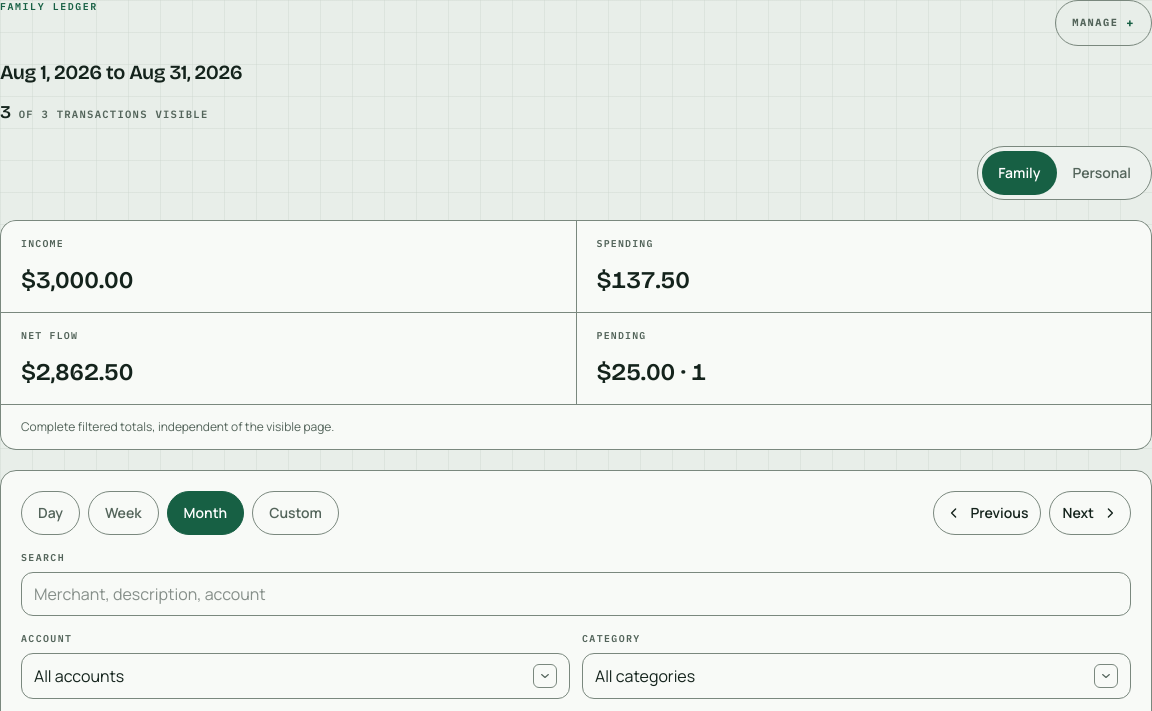
Test: GH-30 transaction explorer › COMP-007 names the active filters in the empty state
The image size is (1152, 711).
Click the dropdown with test id "transactions-account-filter" at (79,676), box [21, 652, 570, 698]
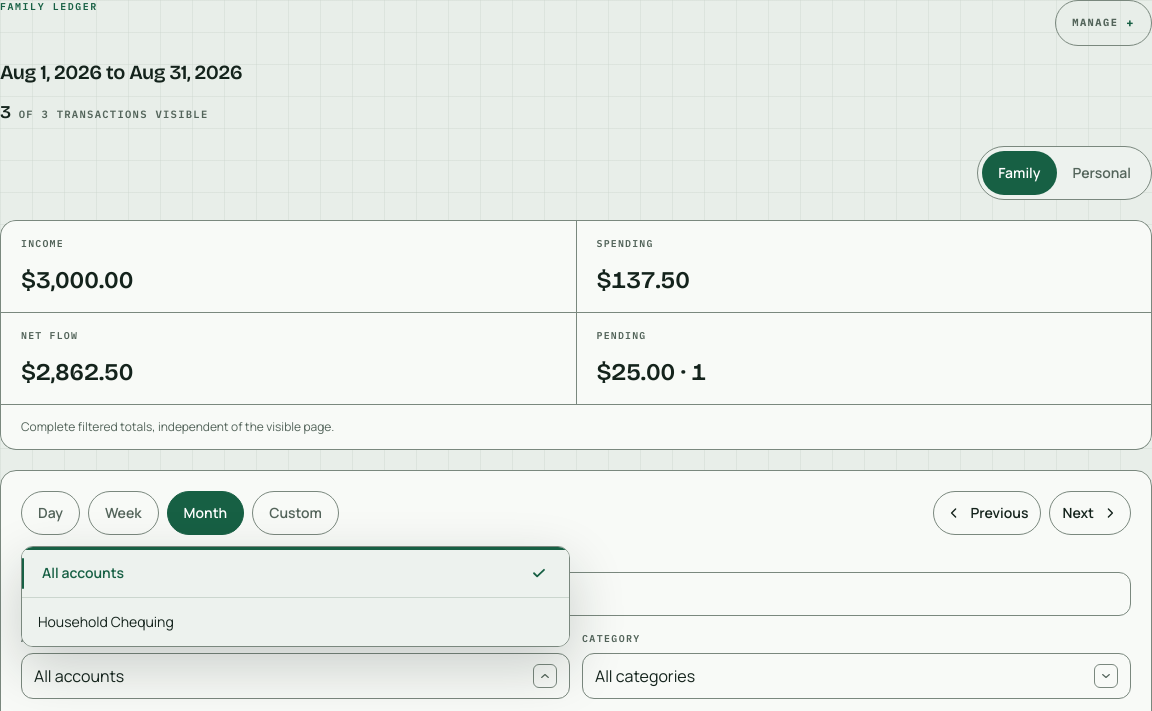
Click the option "Household Chequing" at (106,621), box [38, 612, 174, 630]
(page scrolled)
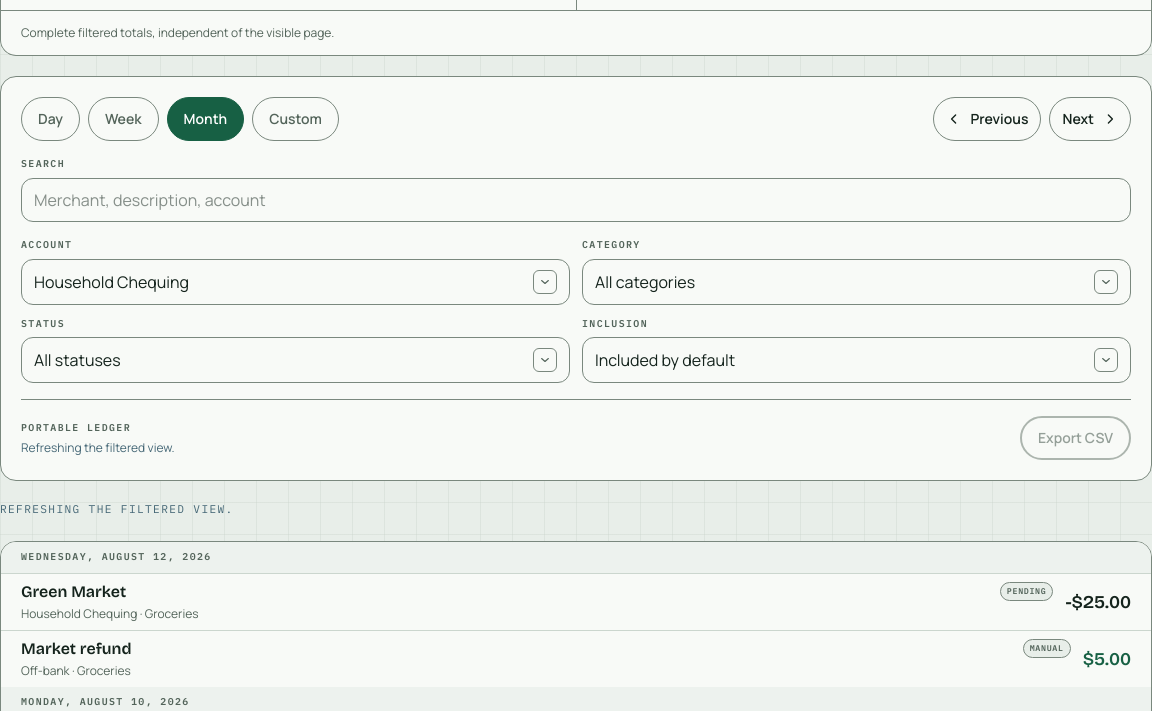
Click the dropdown with test id "transactions-status-filter" at (77,360), box [21, 337, 570, 383]
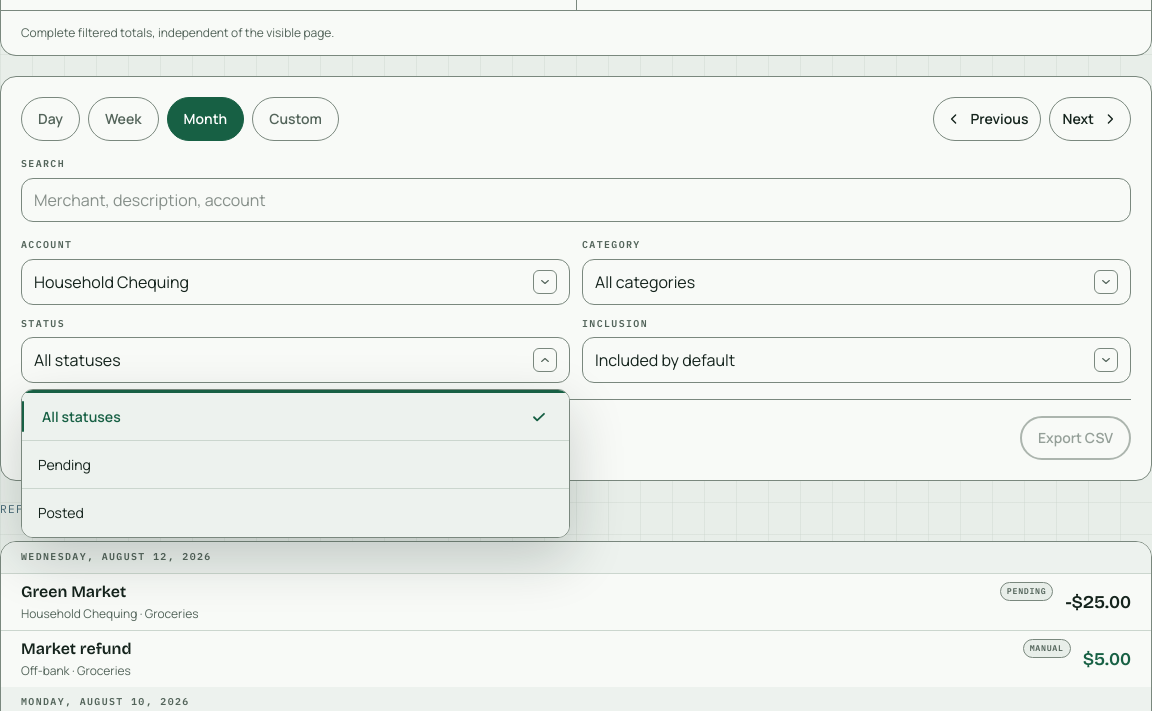
Click the option "Pending" at (64,464), box [22, 441, 569, 489]
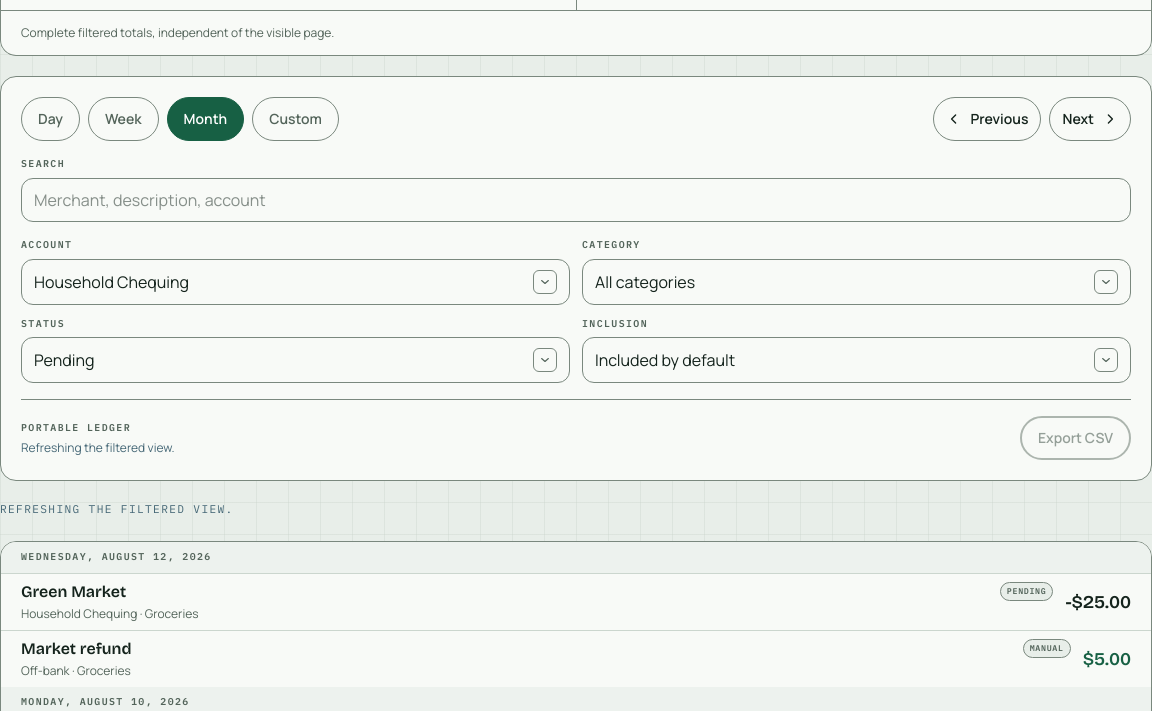
Type "unmatchable" into the search field with test id "transactions-search" at (576,200), box [21, 178, 1131, 222]
(page scrolled)
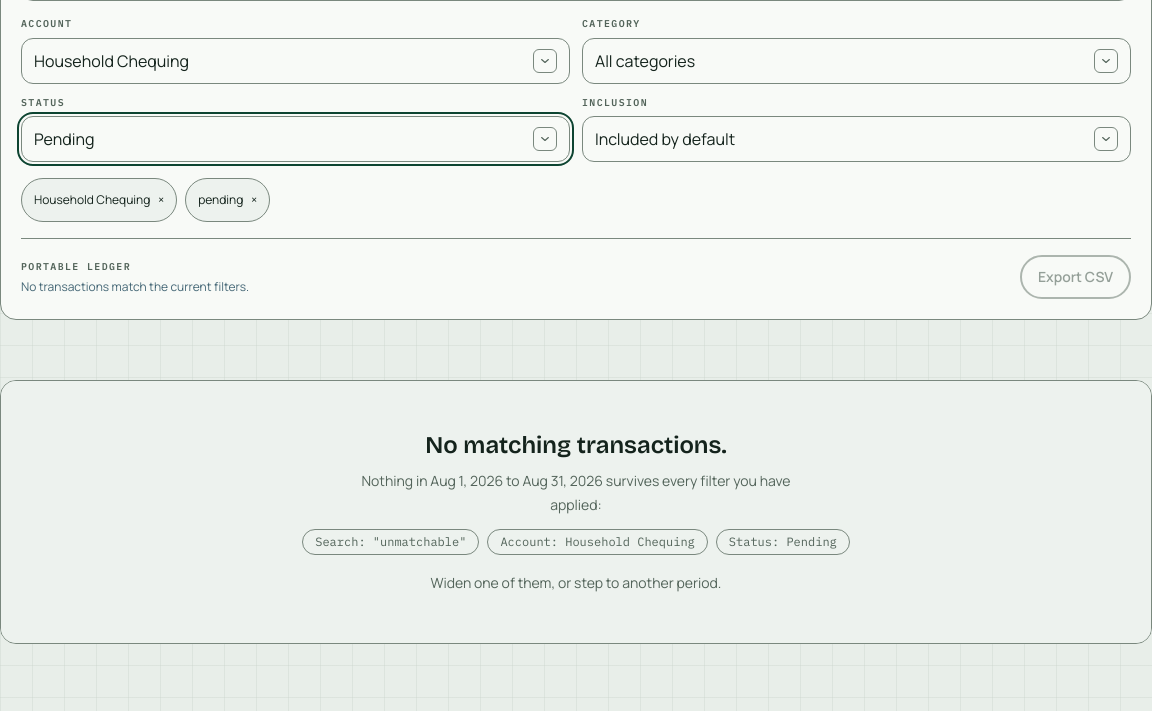
Result: the element with test id "transactions-empty-state" shows "unmatchable" at [315, 534, 466, 549]
Result: the element with test id "transactions-empty-state" shows "household chequing" at [500, 534, 695, 549]
Result: the element with test id "transactions-empty-state" shows "pending" at [729, 534, 837, 549]
